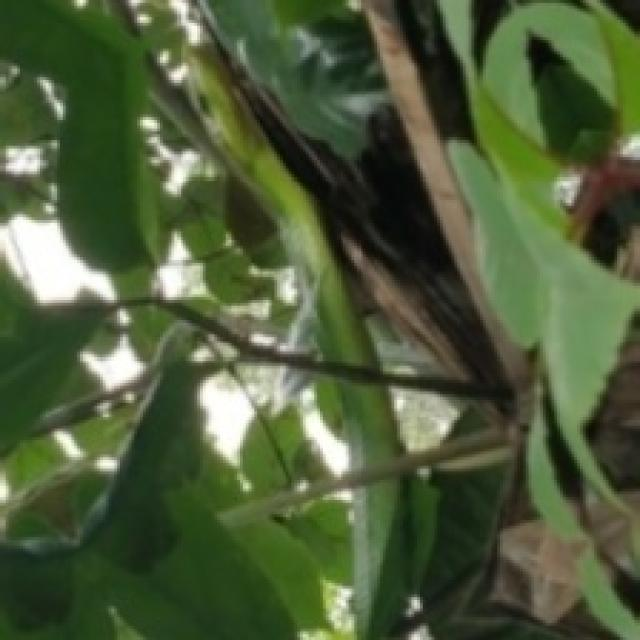red-tailed green ratsnake: (191, 48, 379, 368), (355, 481, 421, 640), (319, 380, 401, 462)
